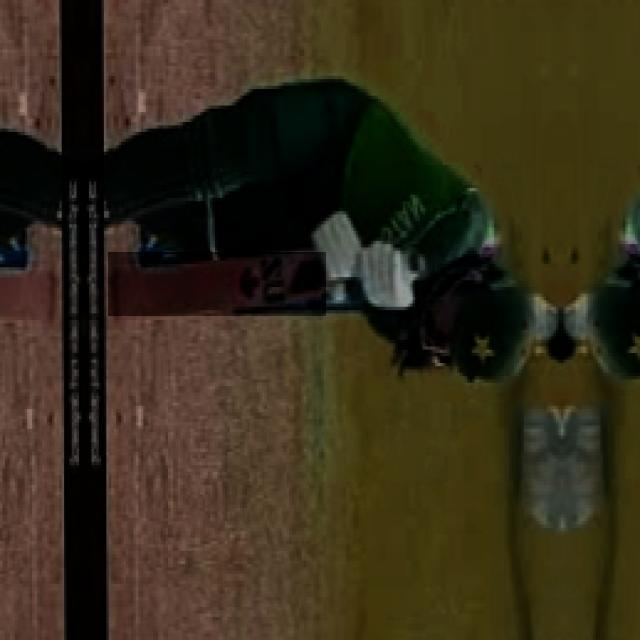bat: (109, 256, 324, 316)
